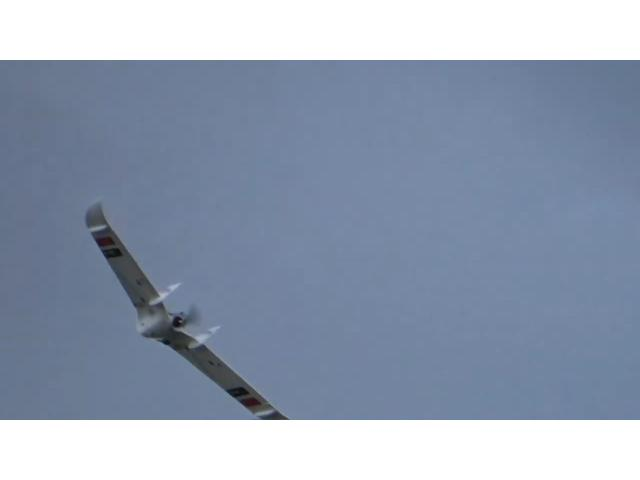Anti-Drone: (84, 196, 298, 420)
